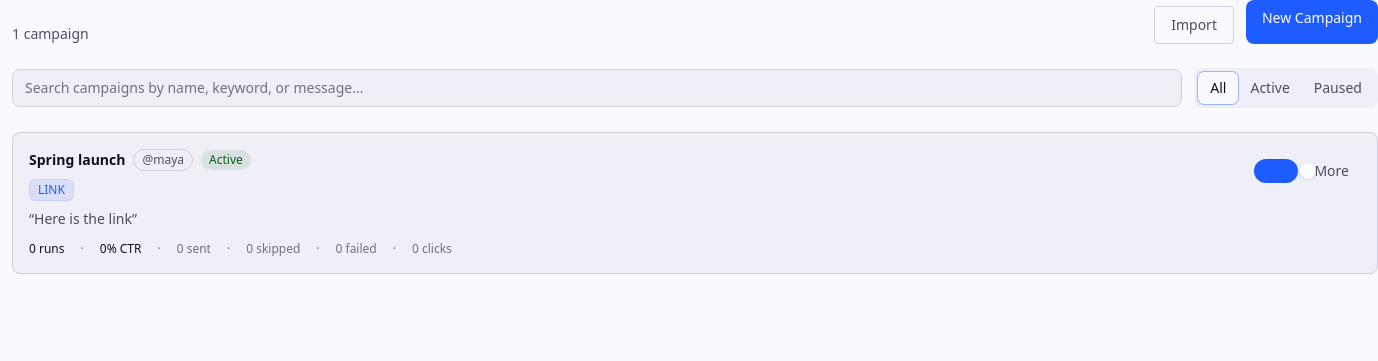
it: campaign action failures › keeps the campaign card when deletion fails
Check: the link "Spring launch" is shown, box x1=29 y1=150 x2=125 y2=170
What coordinates should you click on to do the following:
click the button with aria-label "More actions"
I would click on:
 (1332, 171)
Its box is x1=1302 y1=149 x2=1361 y2=193.
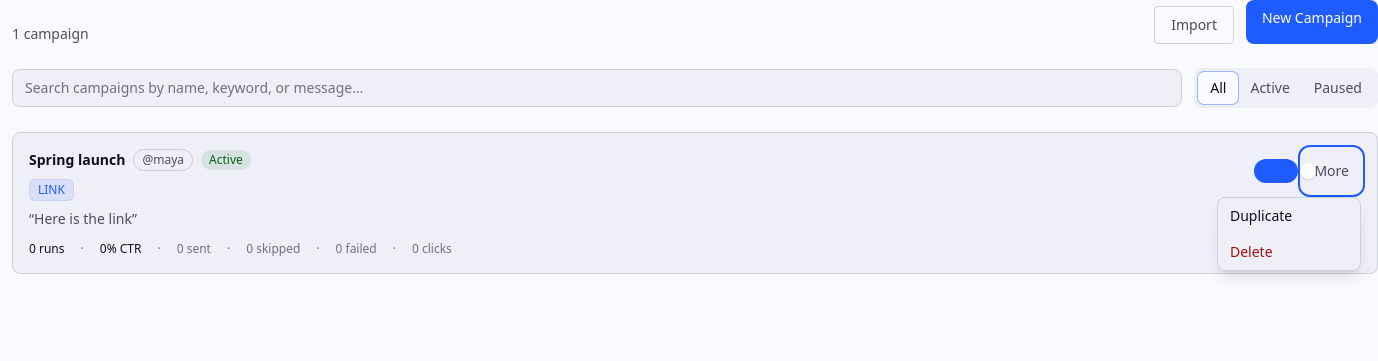
What coordinates should you click on to do the following:
click the button "Delete"
I would click on:
 (1289, 252)
Its box is x1=1218 y1=234 x2=1360 y2=270.
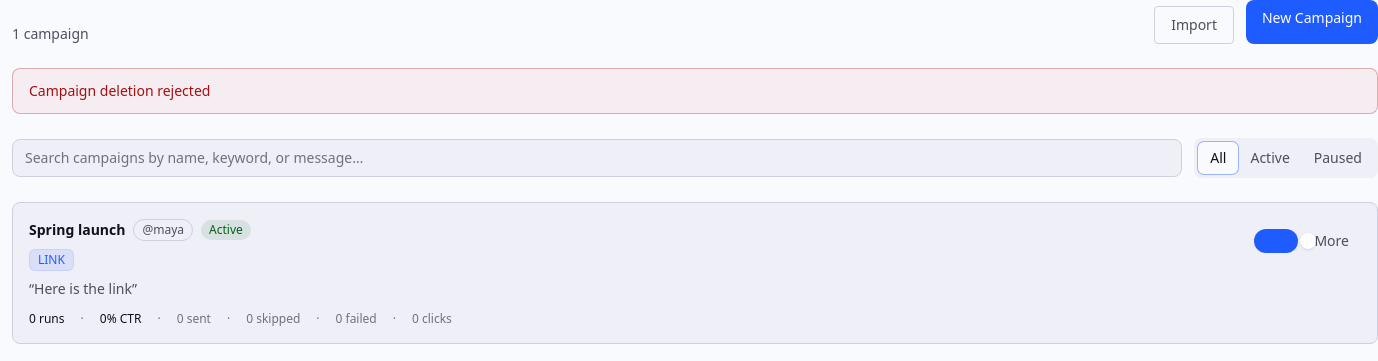
Check: the link "Spring launch" is shown, box x1=29 y1=220 x2=125 y2=240
Check: the message reads "Campaign deletion rejected", box x1=29 y1=81 x2=210 y2=100
